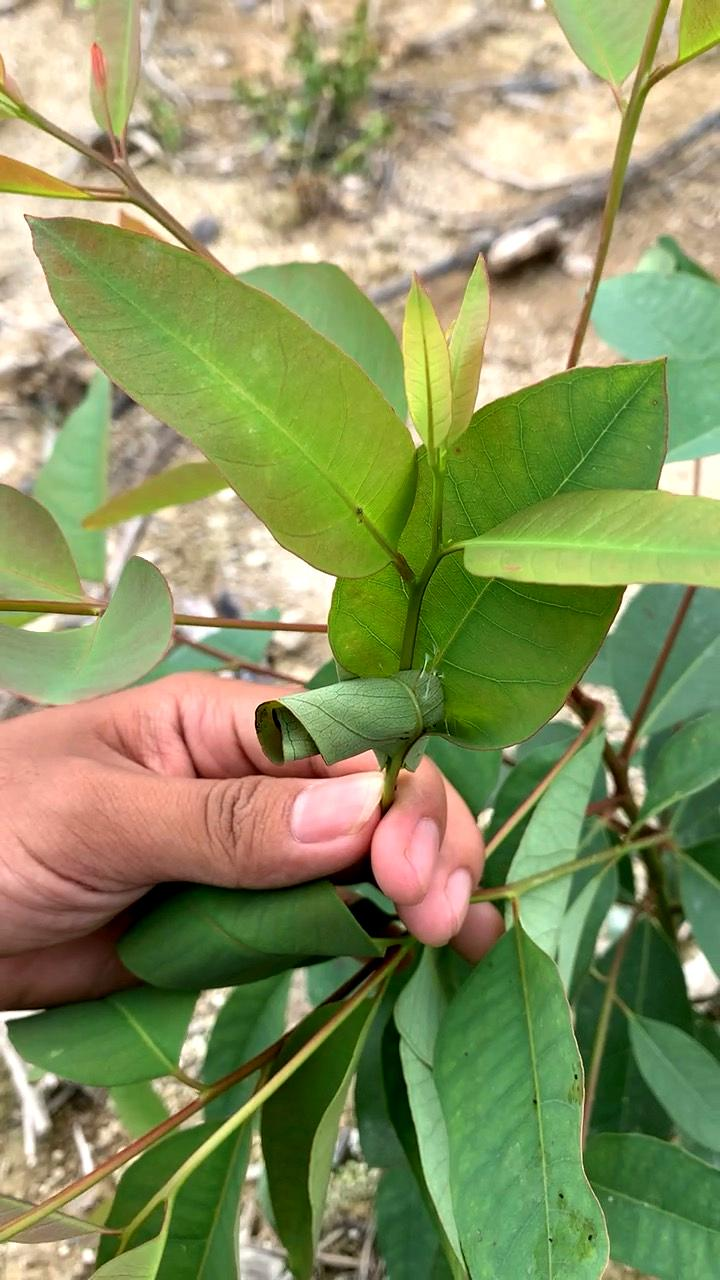Leaf Roller - Leaf: (245, 623, 485, 794)
